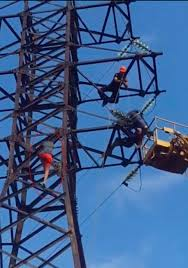infiltrator: (93, 65, 130, 107), (35, 134, 61, 187)
